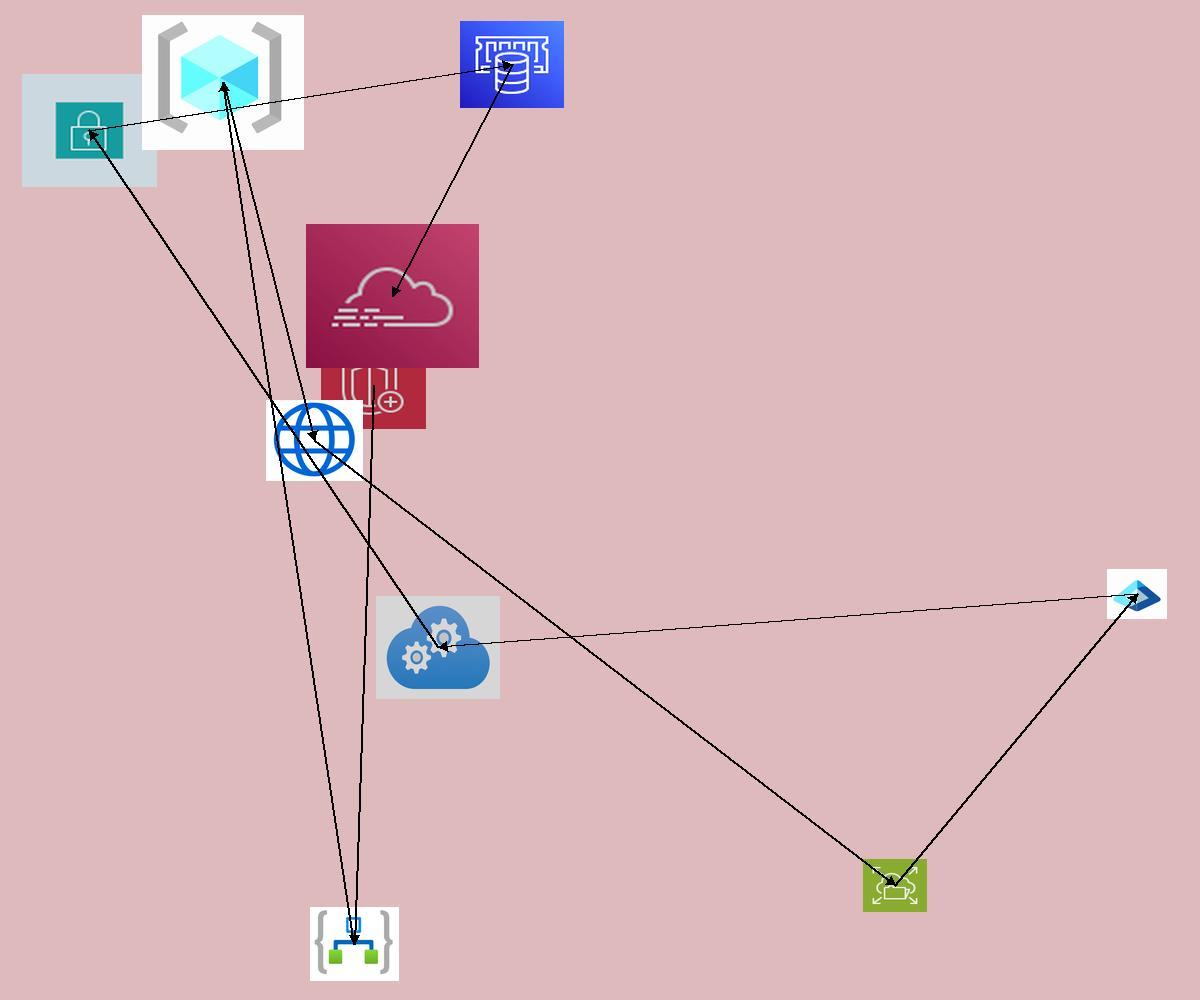AWS-CloudTrail: (306, 224, 479, 368)
AWS-EFS: (863, 859, 927, 912)
AWS-ElastiCache: (460, 21, 564, 108)
AWS-Private-subnet: (22, 74, 157, 187)
AWS-Shield: (321, 342, 426, 429)
Azure_cloud_services: (376, 596, 500, 699)
Azure_http: (266, 400, 363, 481)
Azure_integration-204-Logic-Apps: (310, 907, 399, 981)
Azure_microsoft_entra: (1107, 569, 1167, 619)
Azure_resource_group: (142, 15, 304, 150)
